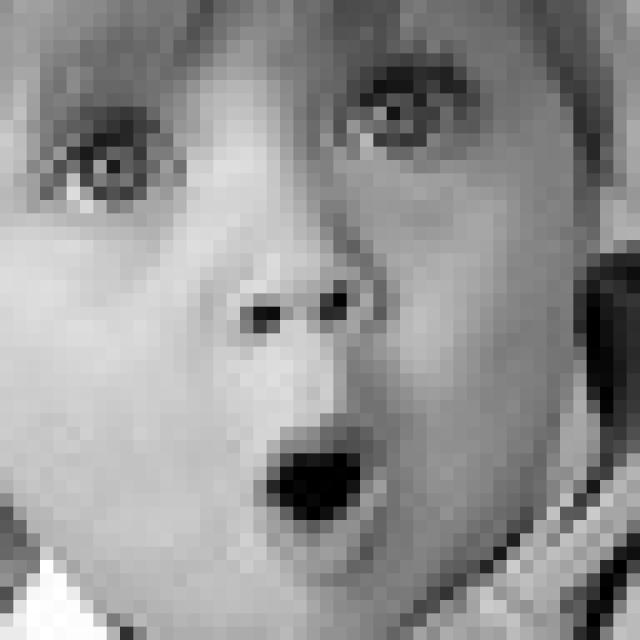surprise: (34, 47, 508, 586)
